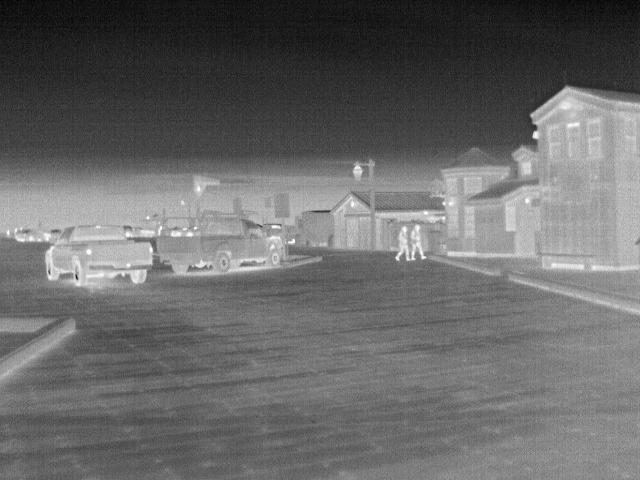car: (157, 212, 288, 276), (45, 221, 155, 286)
person: (408, 221, 428, 262), (394, 224, 414, 264)
